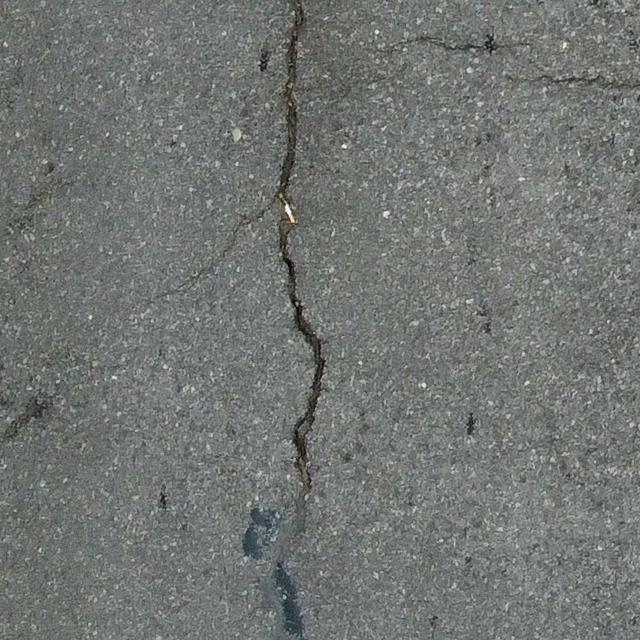LongitudinalCrack: (258, 1, 326, 498)
